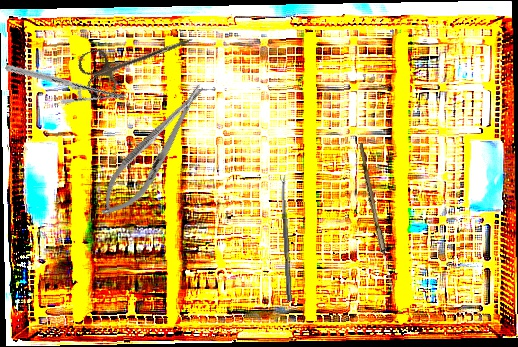Iris Scissors: (75, 14, 201, 103)
Needle Holder: (89, 74, 218, 228), (4, 36, 128, 129)
Surgical Spoon: (355, 142, 397, 293), (280, 174, 293, 302)
